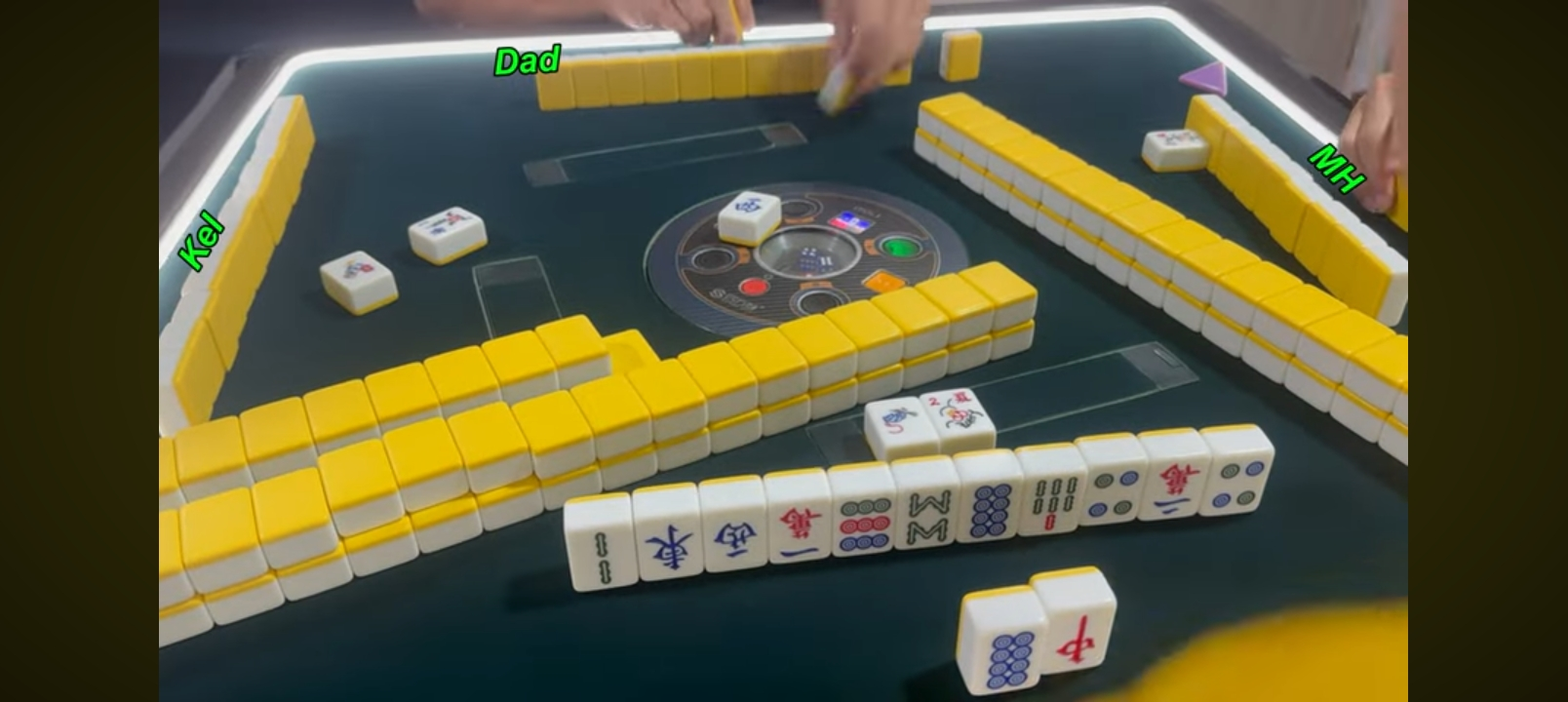TILE: (566, 523, 636, 590), (978, 627, 1046, 694), (635, 518, 705, 581), (1045, 608, 1116, 668), (764, 502, 832, 563), (701, 511, 767, 571), (1146, 459, 1209, 521), (1209, 453, 1272, 514), (896, 487, 960, 547), (832, 495, 896, 554), (1023, 475, 1085, 535), (959, 481, 1022, 540), (1083, 465, 1144, 525), (923, 388, 997, 434), (866, 396, 925, 448)
